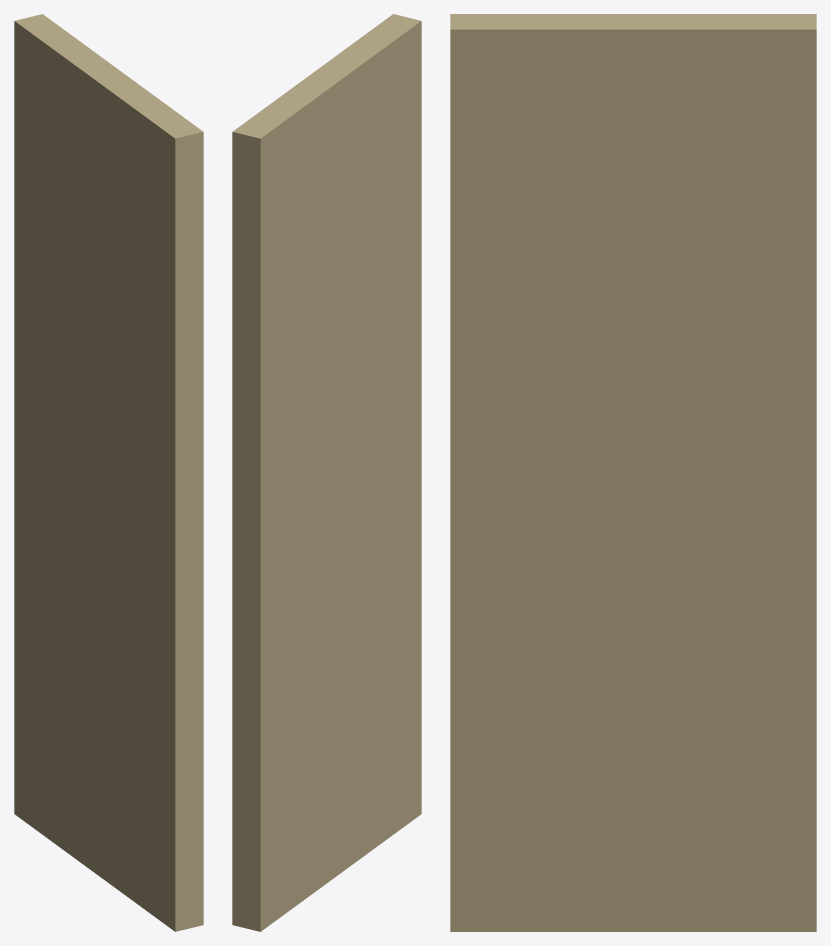
3 views of the same model, side by side, from view 1: azimuth 30°, elevation 25°; view 2: azimuth 150°, elevation 25°; view 3: azimuth 270°, elevation 25° (orthographic). The views are drawn at different scales.
Visible parts, largest first — view 1: GF-W013; view 2: GF-W013; view 3: GF-W013.
Part boxes in pixels (x1,y1,x2,y2): GF-W013: [14, 14, 203, 931]; GF-W013: [232, 14, 421, 931]; GF-W013: [450, 14, 816, 931].
Bounding box in the file's own units: 0.0901 × 2.42 × 0.89.
